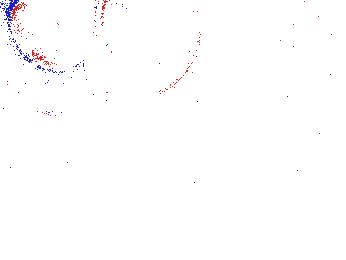moon jellyfish: (83, 1, 203, 106), (220, 1, 298, 86), (9, 1, 98, 73), (4, 61, 97, 118)
